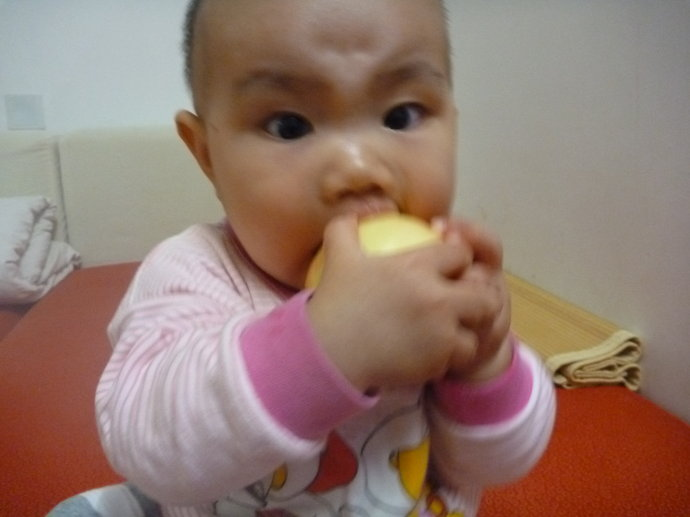face: (214, 1, 465, 294)
